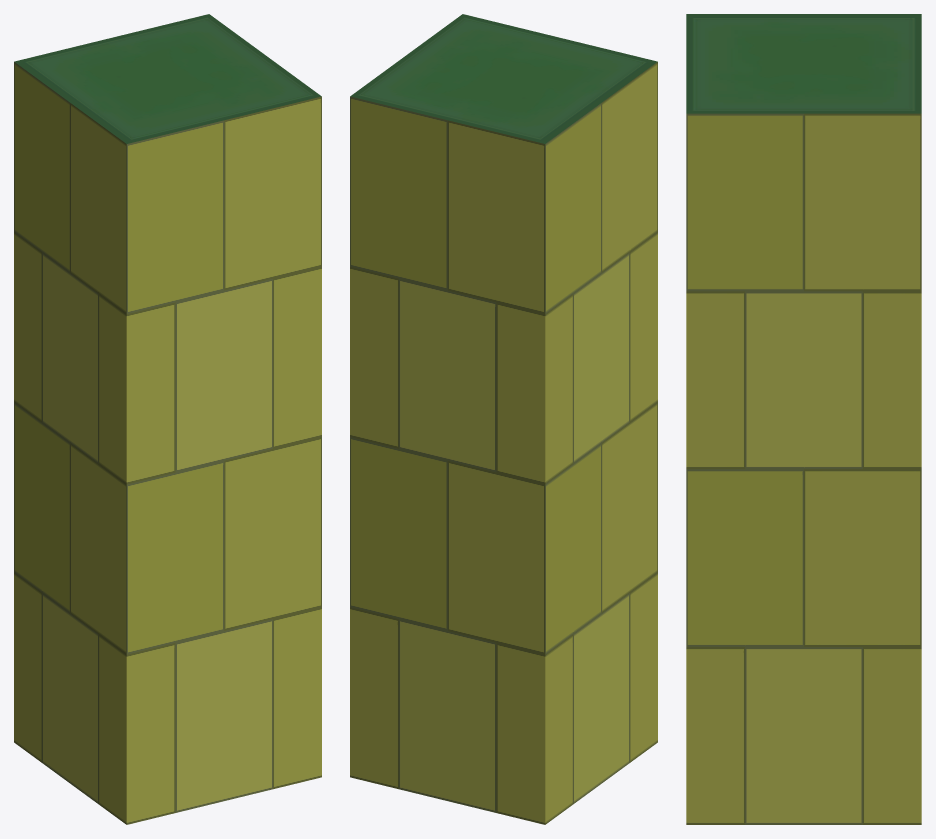
The model's file is WallBlock 330.fbx.
3 views of the same model, side by side, from view 1: azimuth 30°, elevation 25°; view 2: azimuth 150°, elevation 25°; view 3: azimuth 270°, elevation 25° (orthographic). The views are drawn at different scales.
Parts seen in each view (by area): view 1: WallBlock 330; view 2: WallBlock 330; view 3: WallBlock 330.
Part boxes in pixels (bbox=[...]): WallBlock 330: bbox=[14, 14, 321, 824]; WallBlock 330: bbox=[350, 14, 657, 824]; WallBlock 330: bbox=[686, 14, 921, 824].
Bounding box in the file's own units: 0.6 × 2 × 0.6.
